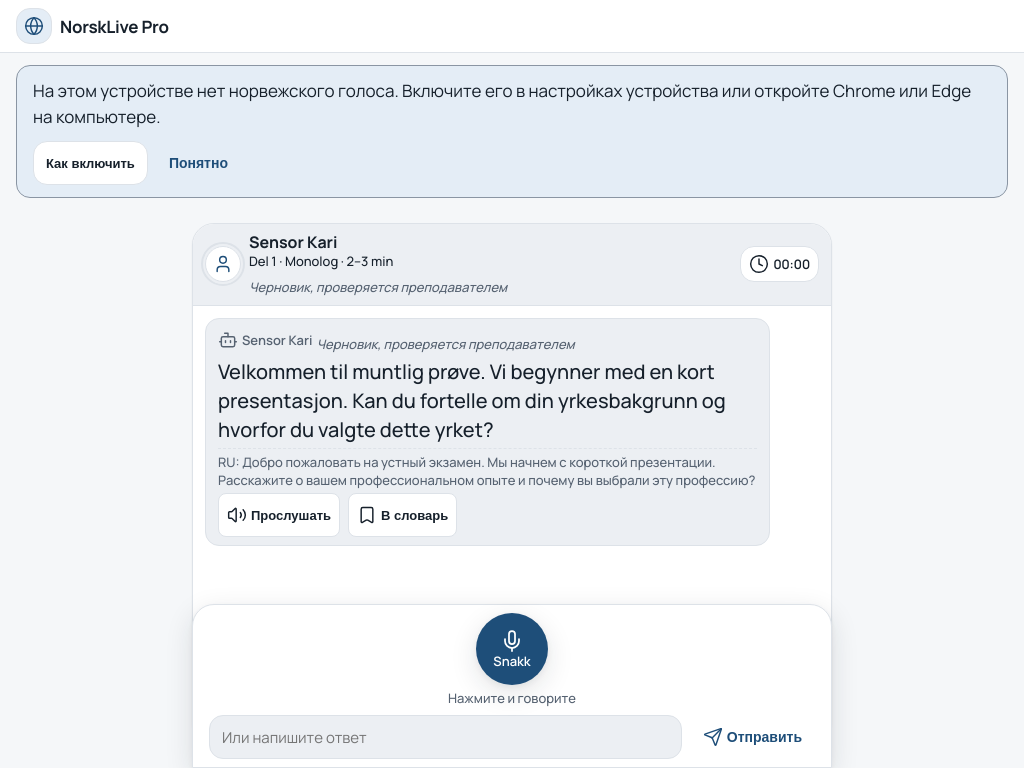
Test: #46 recording until «Готово» › nothing is sent until «Отправить» by default
The image size is (1024, 768).
Click the button with id "micToggleBtn".
click(512, 649)  # box [476,613,548,685]
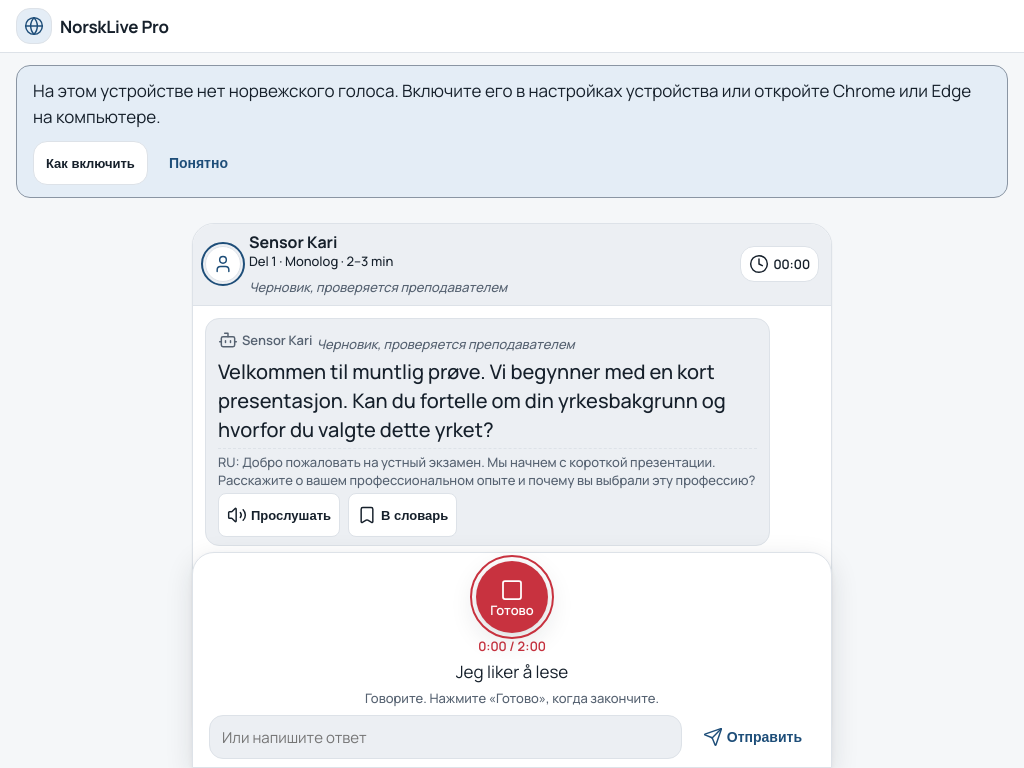
Click the button with id "micToggleBtn".
click(512, 597)  # box [476,561,548,633]
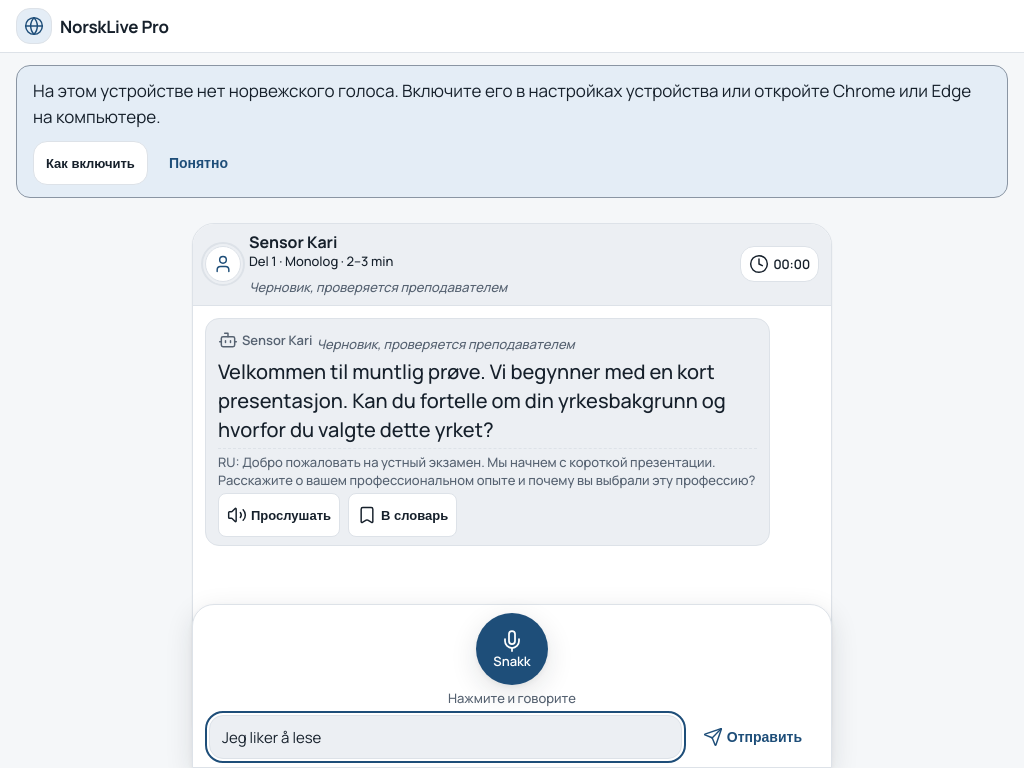
Expected: the field with id "userSpeechInput" holds "Jeg liker å lese", [209,715,682,759]
